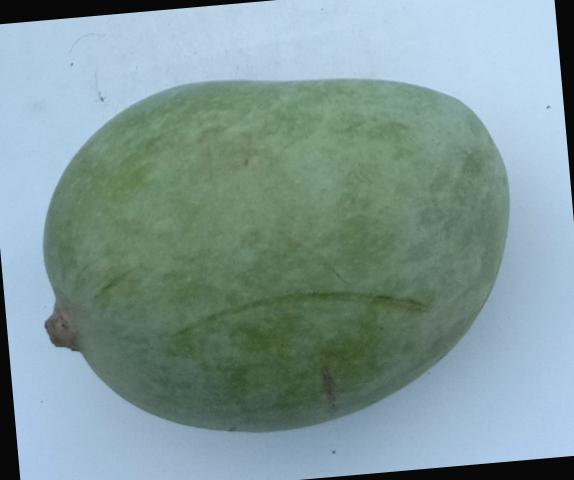Mango Unripe: (0, 20, 538, 480)
